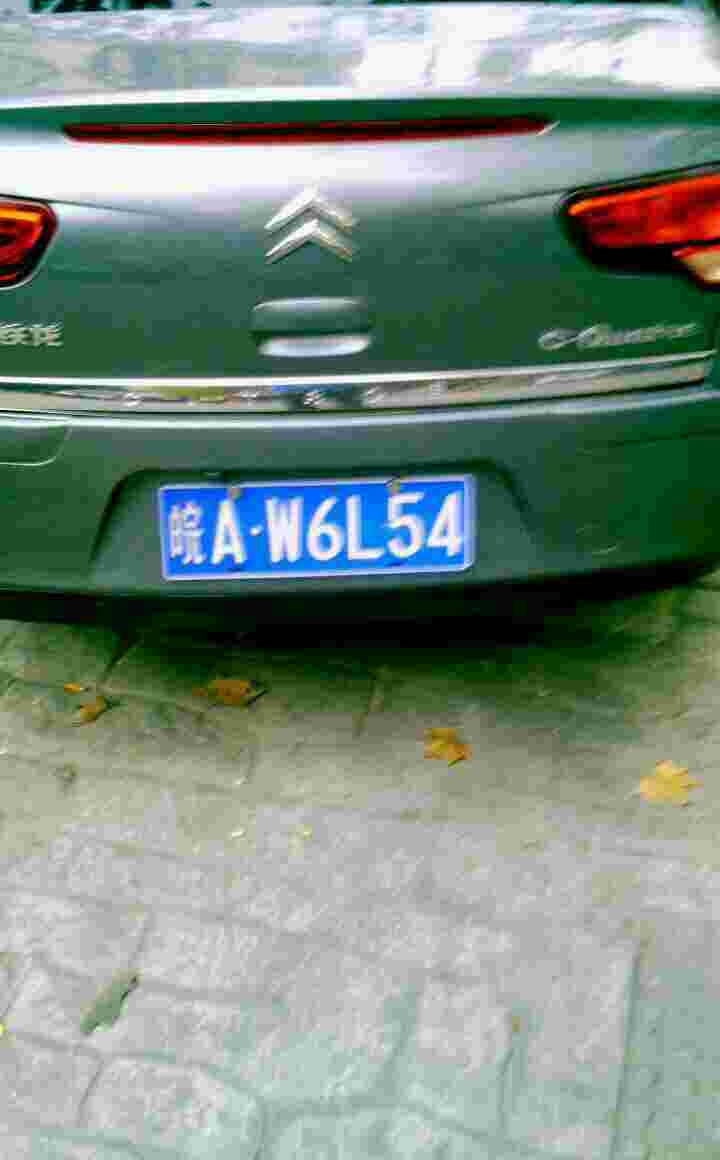license_plate: (161, 473, 469, 580)
